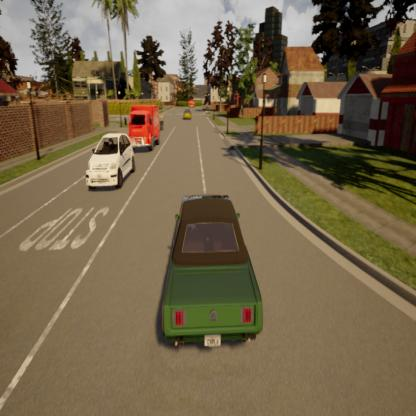Cars: (148, 189, 271, 363), (84, 130, 140, 196), (122, 102, 162, 152), (182, 106, 193, 123)
